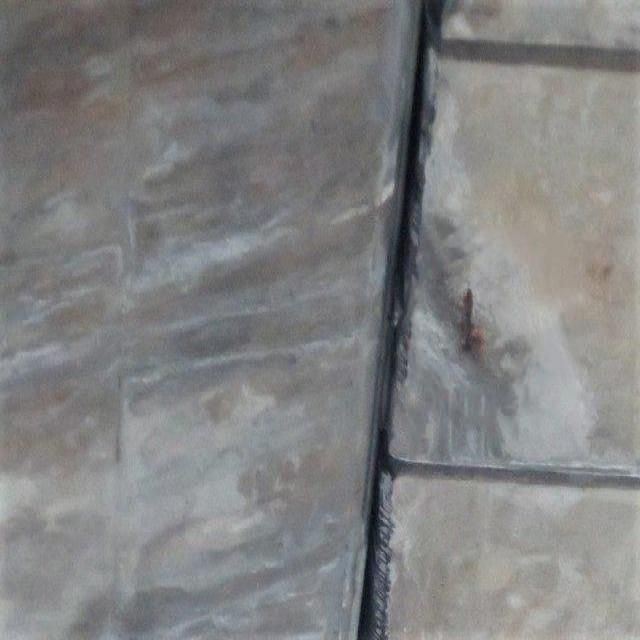Rebar: (454, 279, 487, 361)
